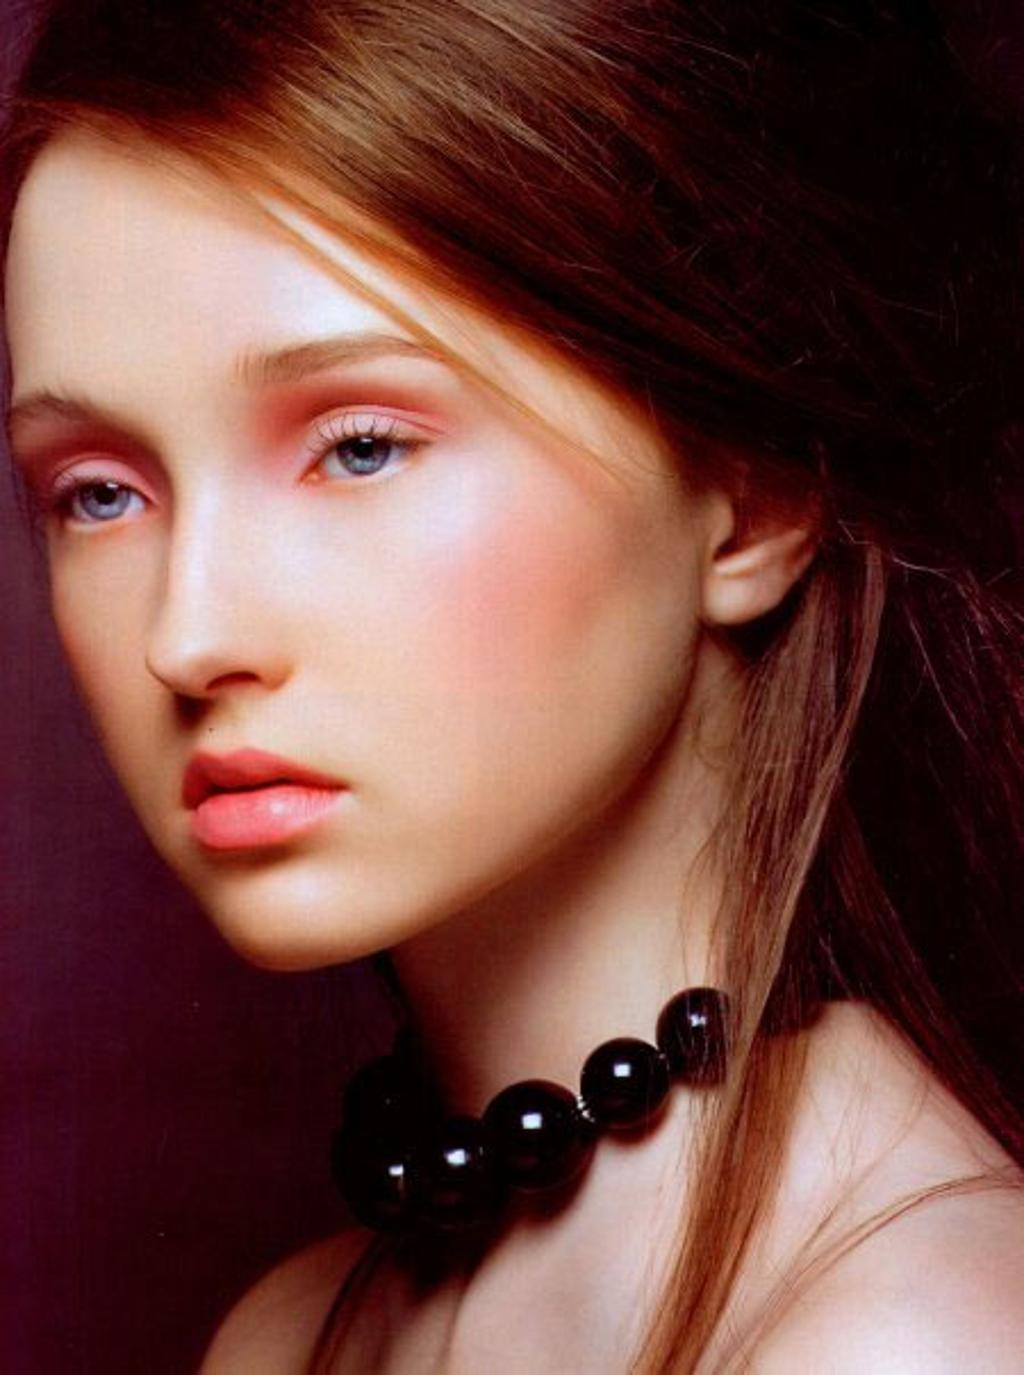face: (4, 127, 705, 952)
